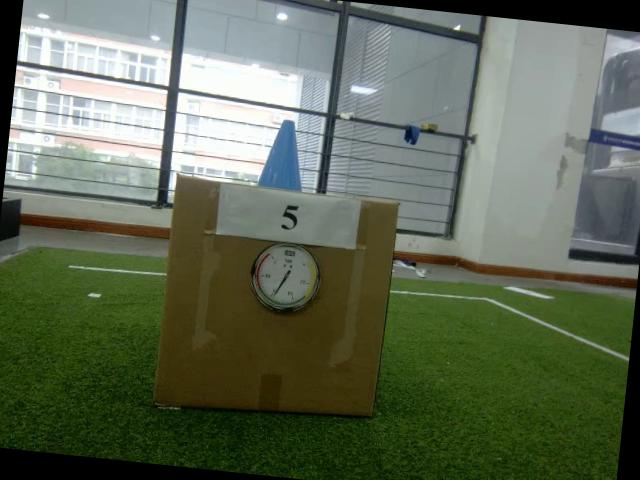5: (279, 202, 300, 232)
Dashboard: (244, 239, 325, 319)
blue_barrel: (254, 114, 312, 194)
ssi: (282, 249, 295, 258)
